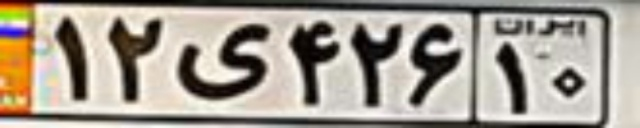0: (550, 67, 587, 96)
1: (50, 16, 91, 101), (491, 40, 530, 114)
2: (103, 15, 166, 103), (349, 22, 403, 106)
4: (286, 19, 342, 105)
6: (409, 23, 463, 105)
ye: (178, 21, 274, 103)
